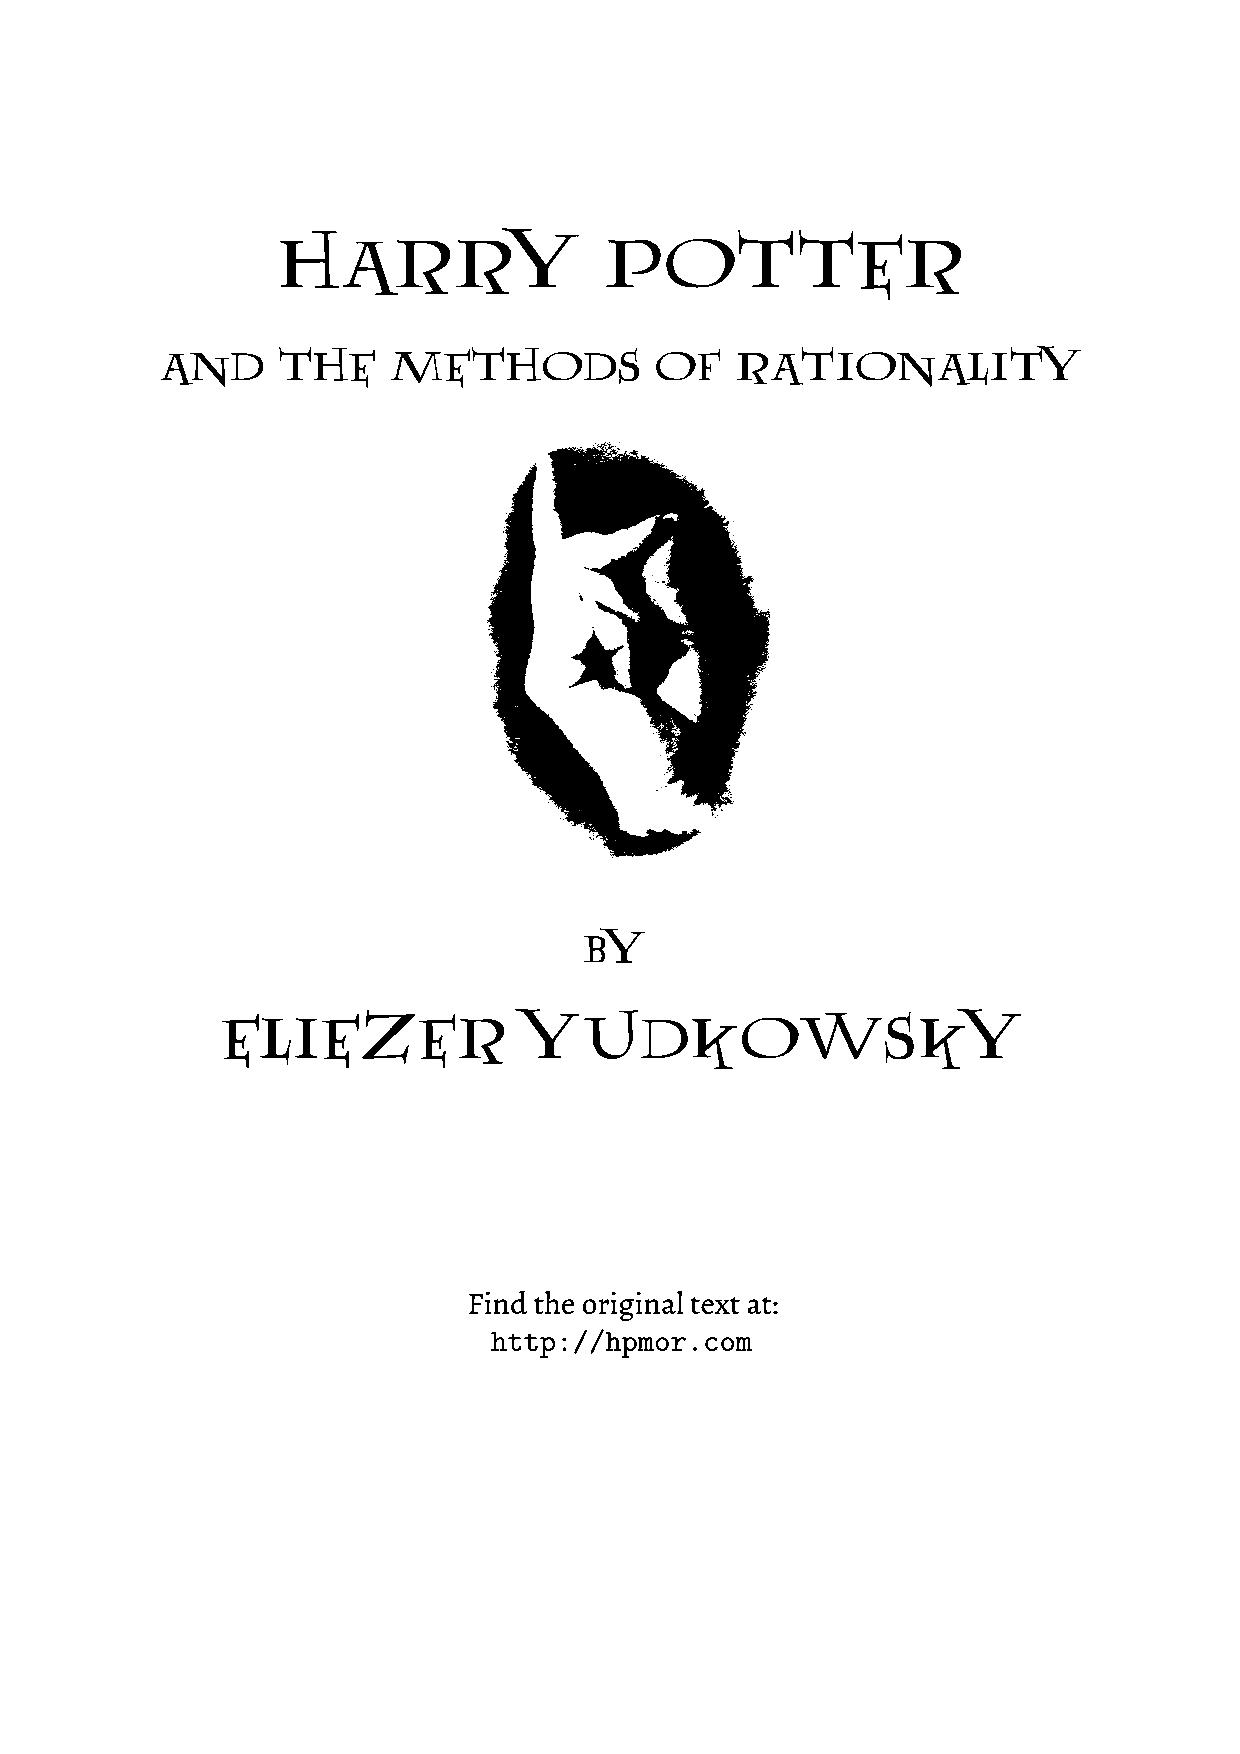author: (221, 925, 1021, 1072)
title: (154, 224, 1080, 389)
